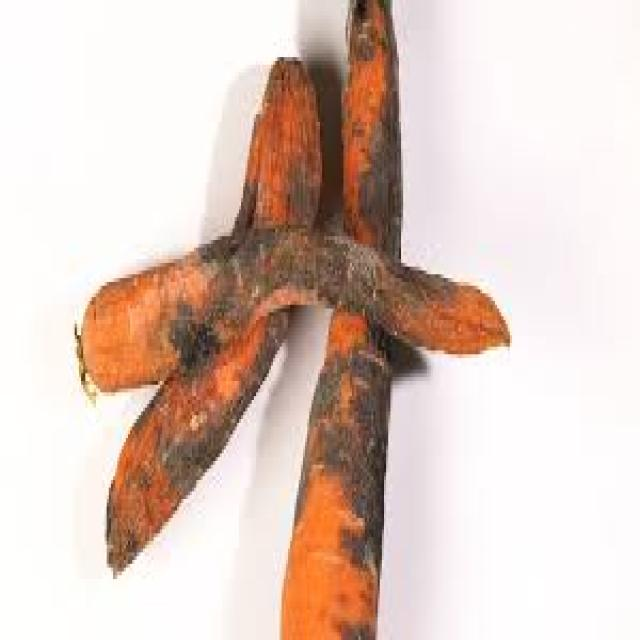Stale_Carrot: (81, 228, 510, 390)
